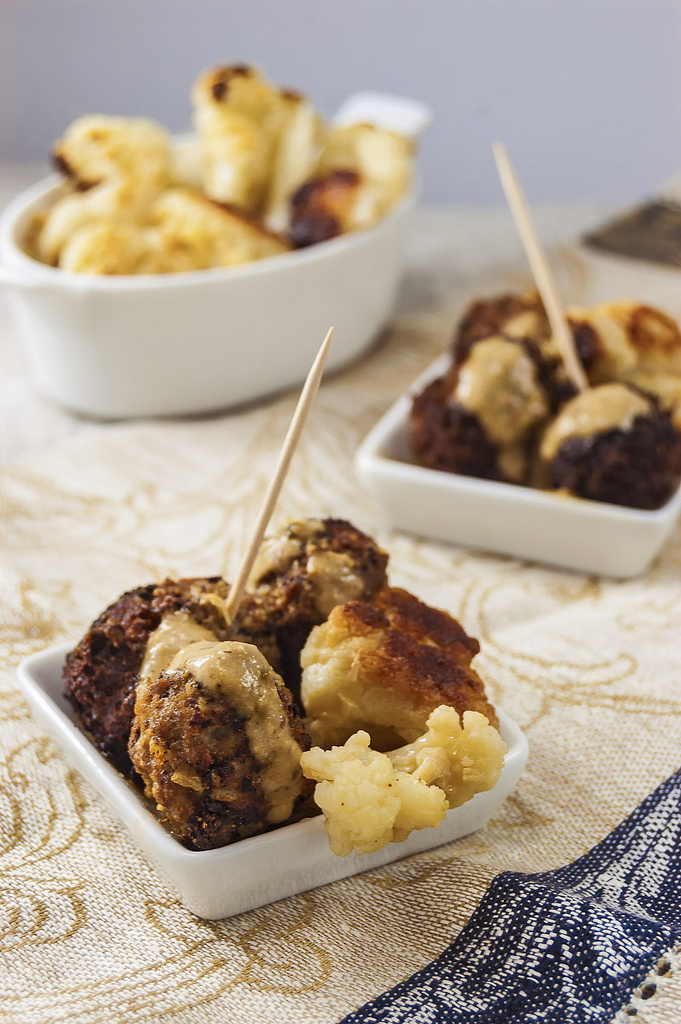meatballs: (316, 608, 483, 757), (143, 641, 274, 828), (61, 584, 256, 701), (243, 505, 385, 618)
